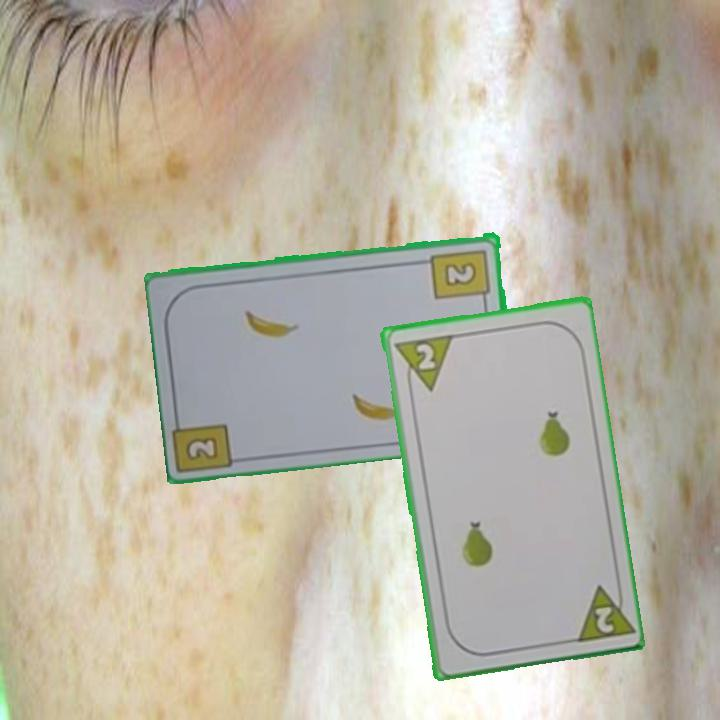2b: (428, 245, 494, 306), (185, 435, 218, 460)
2p: (569, 577, 634, 645), (390, 330, 455, 397)
